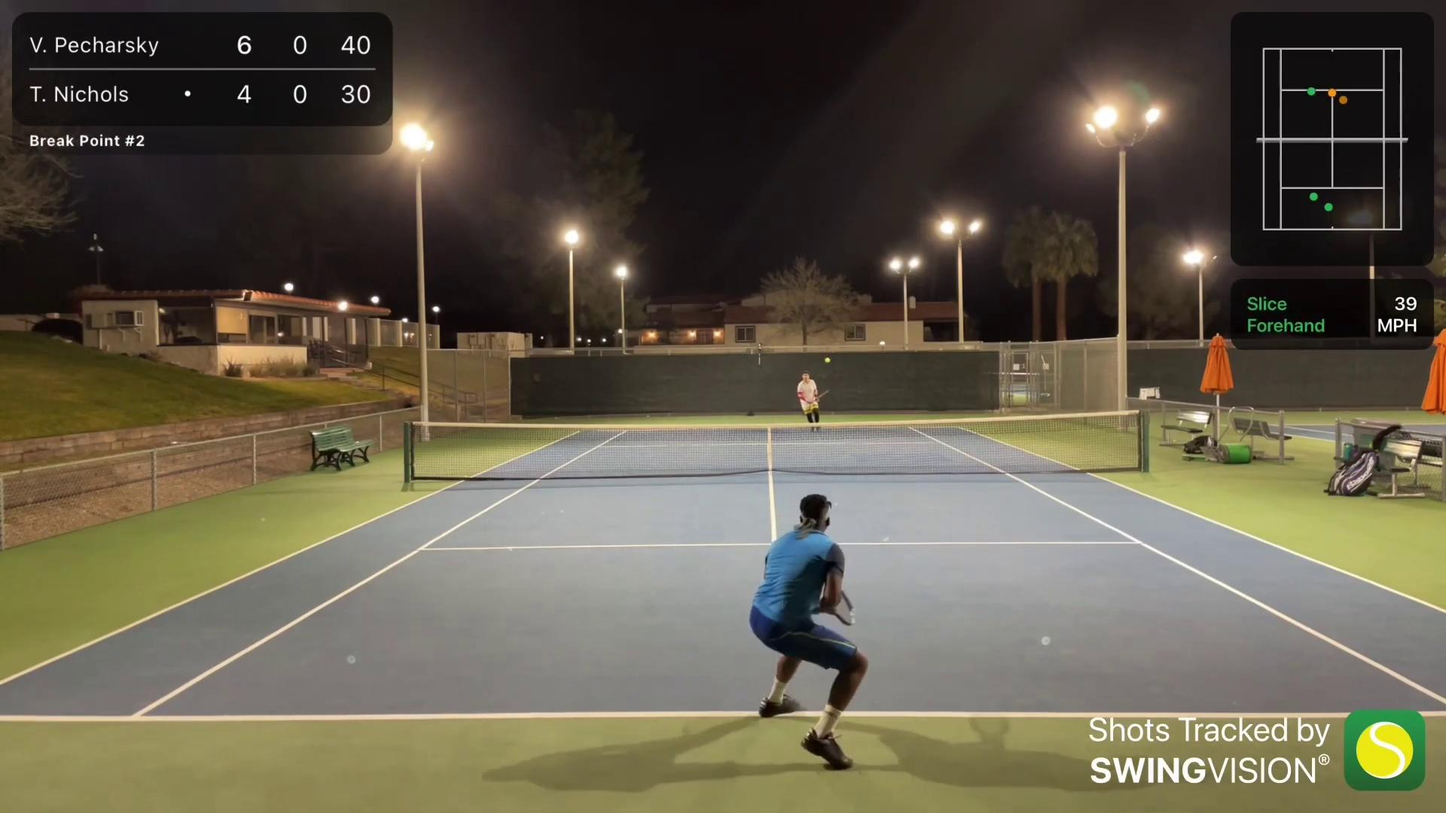ball: (825, 357, 831, 365)
